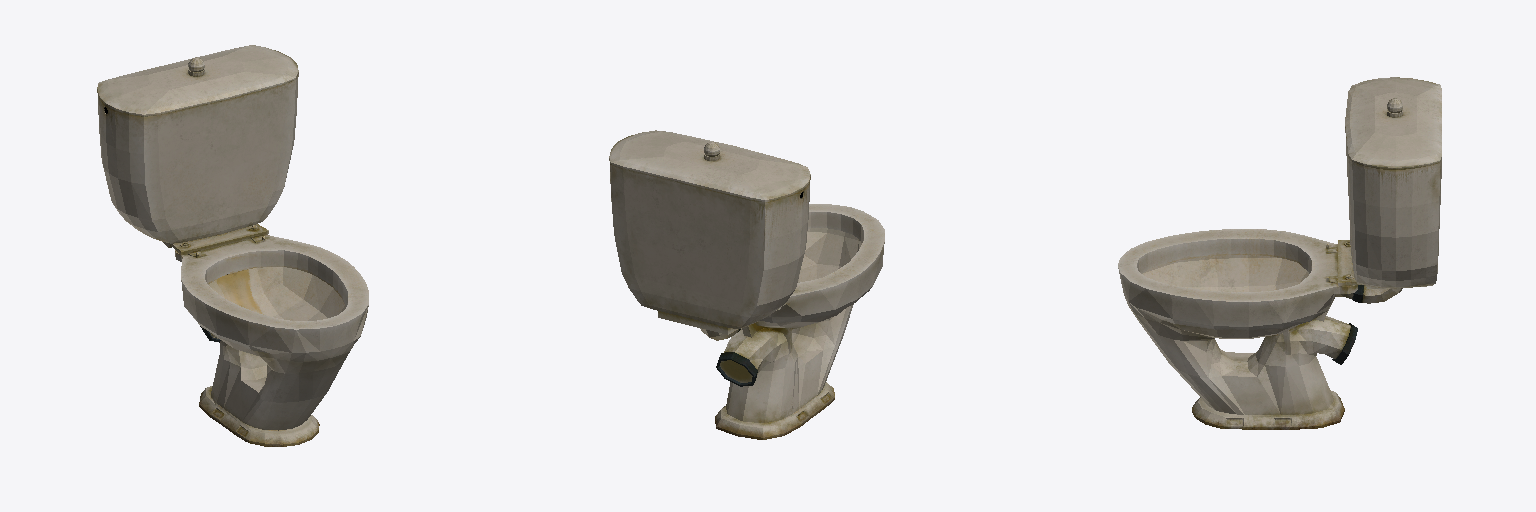
The picture shows the model from 3 angles: view 1: azimuth 30°, elevation 25°; view 2: azimuth 150°, elevation 25°; view 3: azimuth 270°, elevation 25°; orthographic projection.
Parts seen in each view (by area): view 1: Toilet01; view 2: Toilet01; view 3: Toilet01.
Boxes of the visible parts, box(x1,y1,x2,y2) form: Toilet01: box(97, 45, 368, 446); Toilet01: box(609, 130, 884, 439); Toilet01: box(1118, 77, 1441, 429).
Size of the model in its own units: 66.72 by 107 by 101.
1 materials, 1 textured.